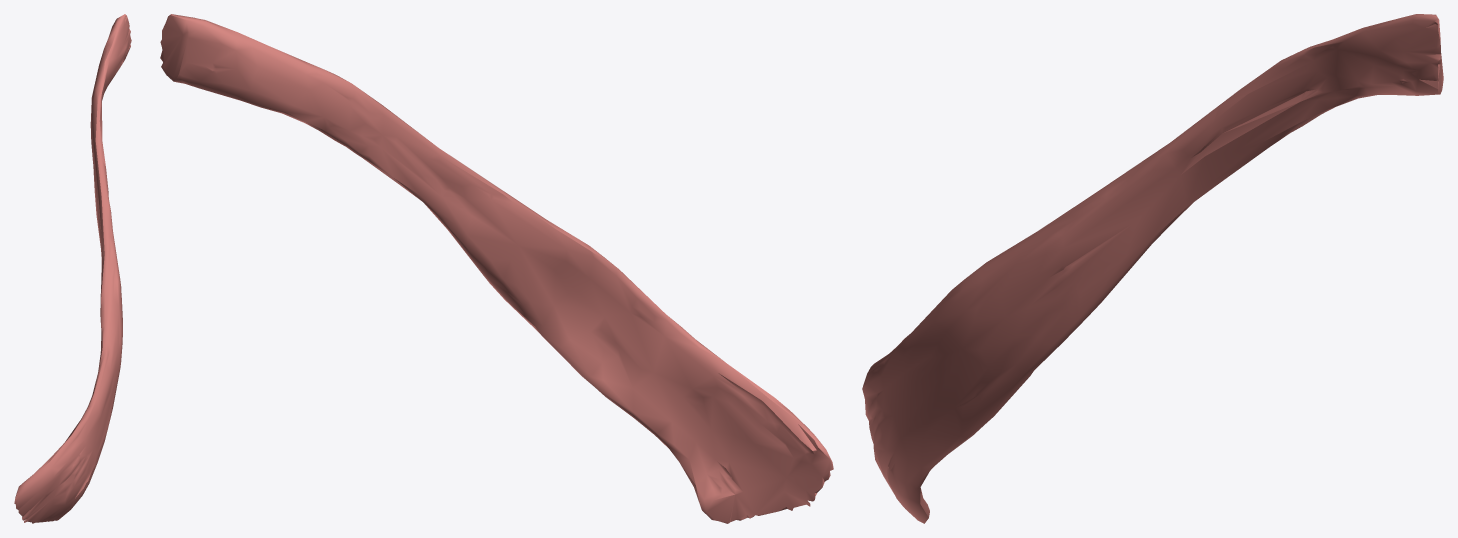
Rendered from fma45875_fj1446m.glb.
3 renders of one model, left to right at view 1: azimuth 30°, elevation 25°; view 2: azimuth 150°, elevation 25°; view 3: azimuth 270°, elevation 25°, orthographic. The views are drawn at different scales.
Parts seen in each view (by area): view 1: FMA45875_FJ1446M; view 2: FMA45875_FJ1446M; view 3: FMA45875_FJ1446M.
Boxes of the visible parts, box(x1,y1,x2,y2) form: FMA45875_FJ1446M: box(14, 14, 131, 523); FMA45875_FJ1446M: box(160, 14, 833, 523); FMA45875_FJ1446M: box(862, 14, 1443, 523).
Bounding box in the file's own units: 0.1329 × 0.1732 × 0.1319.
